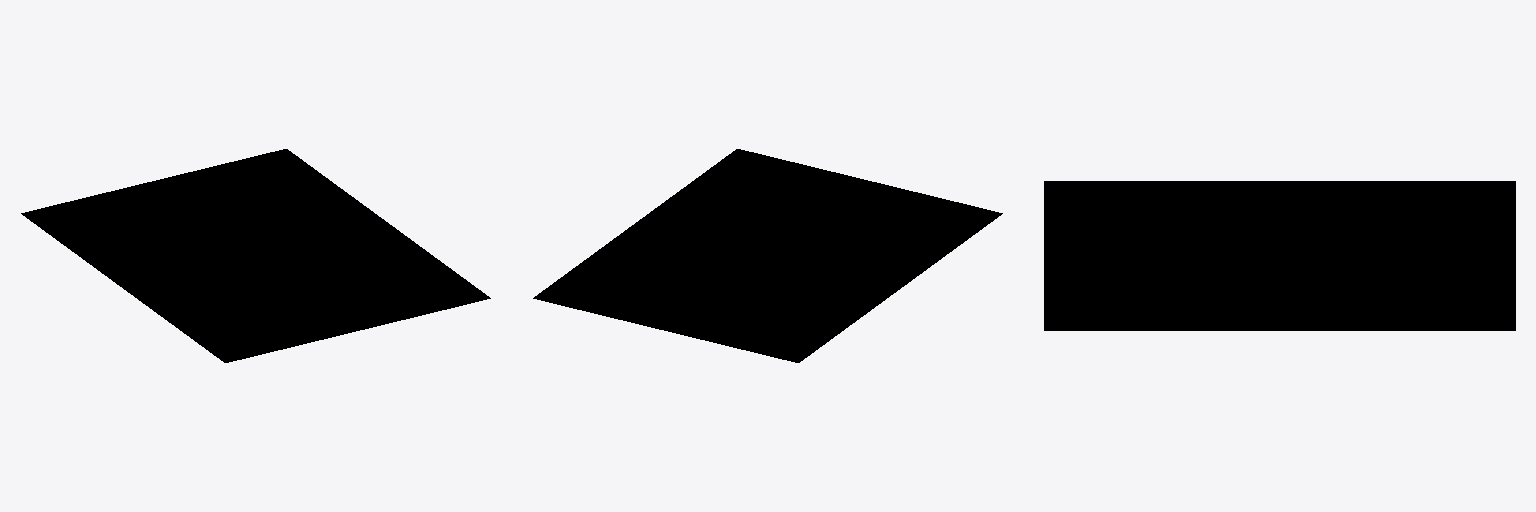
The robot description file, URDF, robot "plane":
<?xml version="0.0" ?>
<robot name="plane">
  <link name="planeLink">
  <contact>
      <lateral_friction value="1"/>
  </contact>
    <inertial>
      <origin rpy="0 0 0" xyz="0 0 0"/>
       <mass value=".0"/>
       <inertia ixx="0" ixy="0" ixz="0" iyy="0" iyz="0" izz="0"/>
    </inertial>
    <visual>
      <origin rpy="0 0 0" xyz="-7 0 0.5"/>
      <geometry>
				<mesh filename="plane_background.obj" scale="1.5 2 2"/>
      </geometry>
       <material name="grey">
        <color rgba="0 0 0 0.7"/>
      </material>
    </visual>
    <!--collision>
      <origin rpy="0 0 0" xyz="-7 0 -5"/>
      <geometry>
	 	<box size="200 200 10"/>
      </geometry>
    </collision-->
  </link>
</robot>

--- Render facts (derived) ---
3 views of the same robot in one strip: view 1: azimuth 30°, elevation 25°; view 2: azimuth 150°, elevation 25°; view 3: azimuth 270°, elevation 25° (orthographic).
Robot: plane — 1 links, 0 joints (none); root link planeLink; default pose: every joint at zero.
Links seen in each view (by area): view 1: planeLink; view 2: planeLink; view 3: planeLink.
Link boxes in pixels (x1=…): planeLink: x1=21, y1=149, x2=490, y2=362; planeLink: x1=533, y1=149, x2=1002, y2=362; planeLink: x1=1044, y1=181, x2=1515, y2=330.
Bounding box of the posed robot: 45 × 60 × 0 m (x, y, z).
Meshes: 1 distinct files referenced, 1 mesh visuals loaded (1 OBJ).
